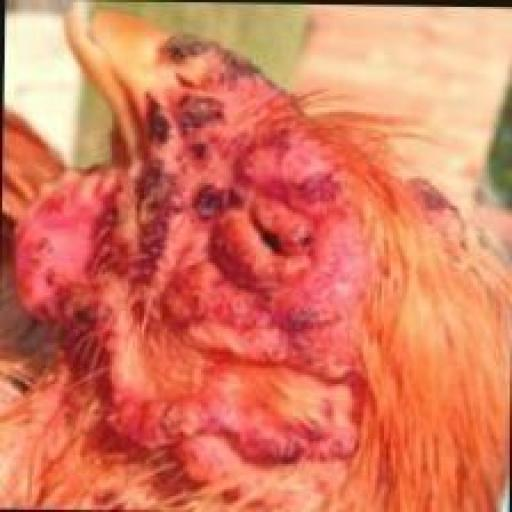disease: (36, 4, 417, 452)
